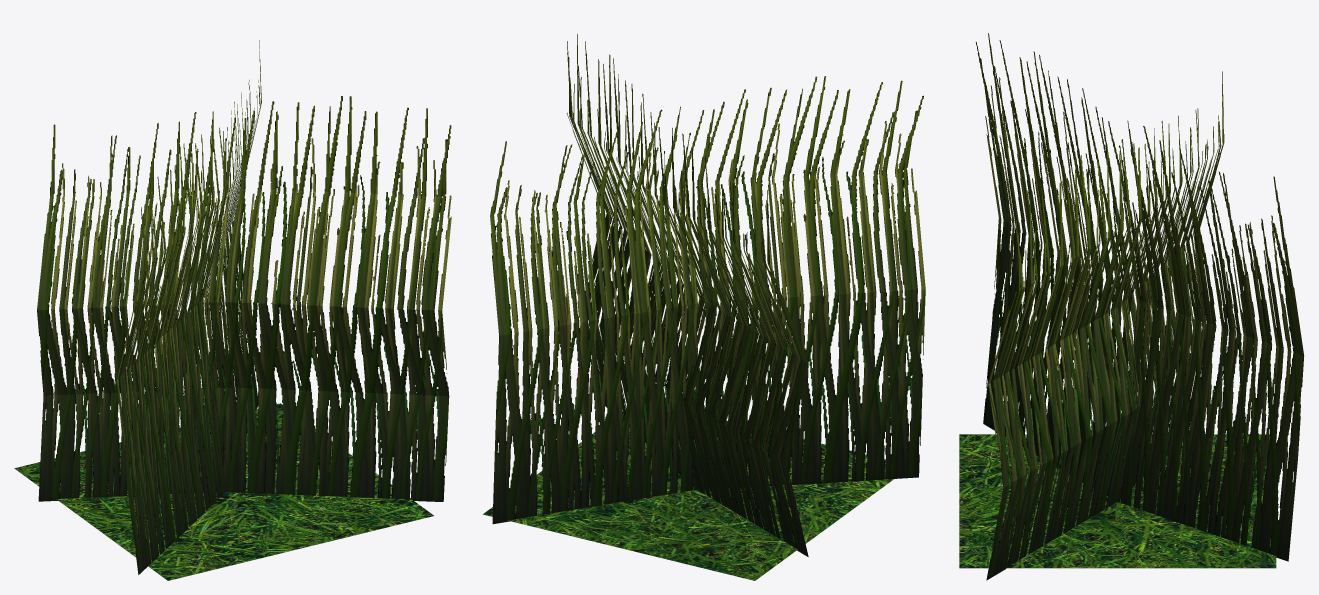
File: grass.fbx
3 renders of one model, left to right at view 1: azimuth 30°, elevation 25°; view 2: azimuth 150°, elevation 25°; view 3: azimuth 270°, elevation 25°, orthographic. The views are drawn at different scales.
Parts seen in each view (by area): view 1: Cube.002, Cube.001, Plane; view 2: Cube.001, Cube.002, Plane; view 3: Cube.001, Cube.002, Plane.
Boxes of the visible parts, <box> form: Cube.002: <box>37,96,451,501</box>; Cube.001: <box>116,40,261,574</box>; Plane: <box>14,403,433,580</box>; Cube.001: <box>490,76,925,524</box>; Cube.002: <box>566,34,808,556</box>; Plane: <box>483,412,893,580</box>; Cube.001: <box>976,33,1304,561</box>; Cube.002: <box>986,71,1224,580</box>; Plane: <box>959,434,1276,568</box>.
Size of the model in its own units: 259 by 286 by 218.
3 materials, 3 textured.
